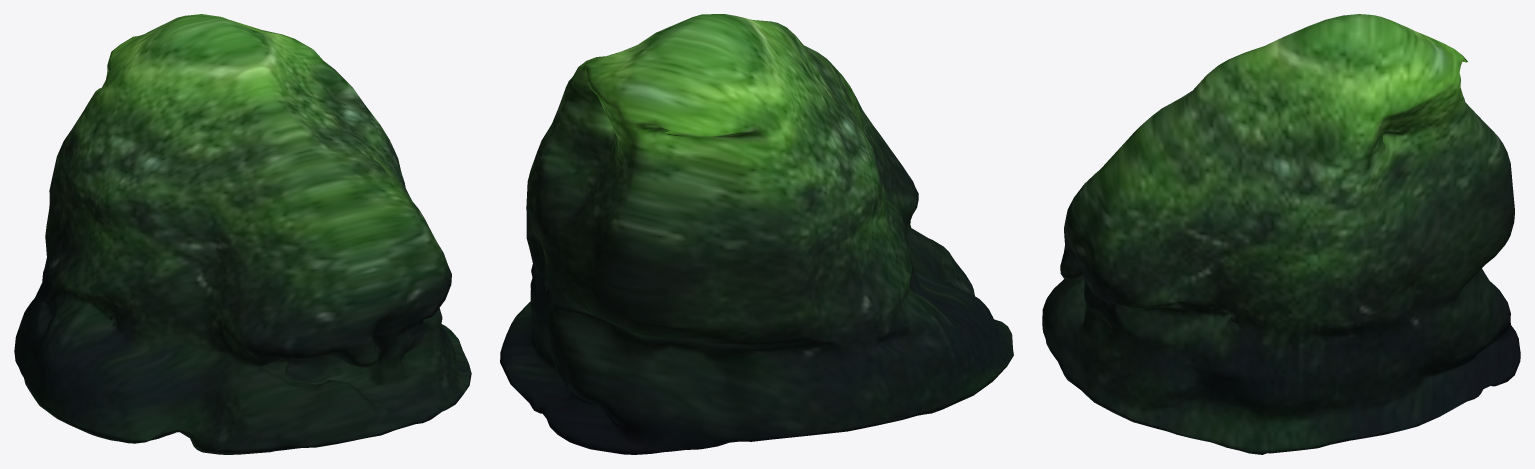
The model's file is 青苔小丘.fbx.
3 renders of one model, left to right at view 1: azimuth 30°, elevation 25°; view 2: azimuth 150°, elevation 25°; view 3: azimuth 270°, elevation 25°, orthographic. The views are drawn at different scales.
Visible parts, largest first — view 1: Mesh_0; view 2: Mesh_0; view 3: Mesh_0.
Boxes of the visible parts, x1,y1,x2,y2 form: Mesh_0: (14,14,471,454); Mesh_0: (500,14,1013,454); Mesh_0: (1042,14,1520,454).
Size of the model in its own units: 99.82 by 100 by 77.69.
1 material, 1 textured.
